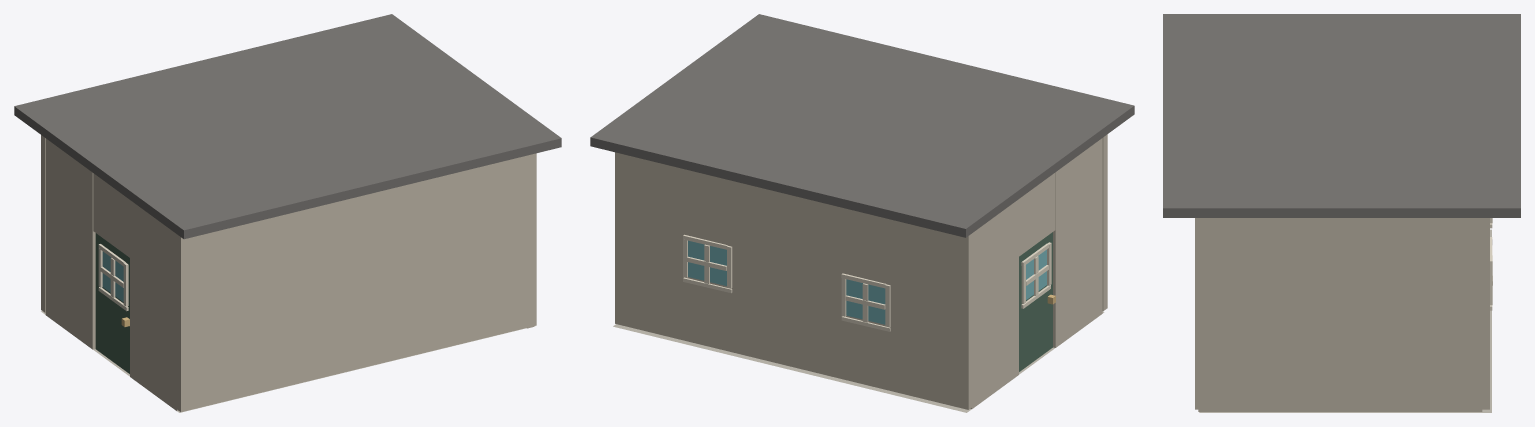
Rendered from talo-house.glb.
3 views of the same model, side by side, from view 1: azimuth 30°, elevation 25°; view 2: azimuth 150°, elevation 25°; view 3: azimuth 270°, elevation 25° (orthographic). The views are drawn at different scales.
Parts seen in each view (by area): view 1: talo_cube_029, talo_cube_015, talo_cube_017, talo_cube_018, talo_cube_020, talo_cube_019, talo_cube_014, talo_cube_022; view 2: talo_cube_029, talo_cube_014, talo_cube_018, talo_cube_017, talo_cube_020, talo_cube_019, talo_cube_013, talo_cube_036, talo_cube_037, talo_cube_015, talo_cube_022; view 3: talo_cube_029, talo_cube_016, talo_cube_014, talo_cube_015, talo_cube_013.
Part boxes in pixels (x1,y1,x2,y2): talo_cube_029: (14,14,561,239); talo_cube_015: (176,153,536,411); talo_cube_017: (45,138,95,349); talo_cube_018: (130,200,178,411); talo_cube_020: (95,233,129,373); talo_cube_019: (93,173,129,257); talo_cube_014: (41,135,45,312); talo_cube_022: (102,251,123,301); talo_cube_029: (590,14,1134,237); talo_cube_014: (615,152,972,409); talo_cube_018: (1053,138,1102,347); talo_cube_017: (970,199,1018,408); talo_cube_020: (1019,232,1052,371); talo_cube_019: (1019,173,1055,256); talo_cube_013: (613,311,1104,412); talo_cube_036: (846,279,885,324); talo_cube_037: (688,240,726,285); talo_cube_015: (1102,134,1107,311); talo_cube_022: (1026,249,1046,299); talo_cube_029: (1163,14,1520,217); talo_cube_016: (1198,218,1482,411); talo_cube_014: (1480,218,1489,409); talo_cube_015: (1195,218,1203,409); talo_cube_013: (1199,229,1491,412).
Size of the model in its own units: 4.49 by 2.26 by 3.49.
